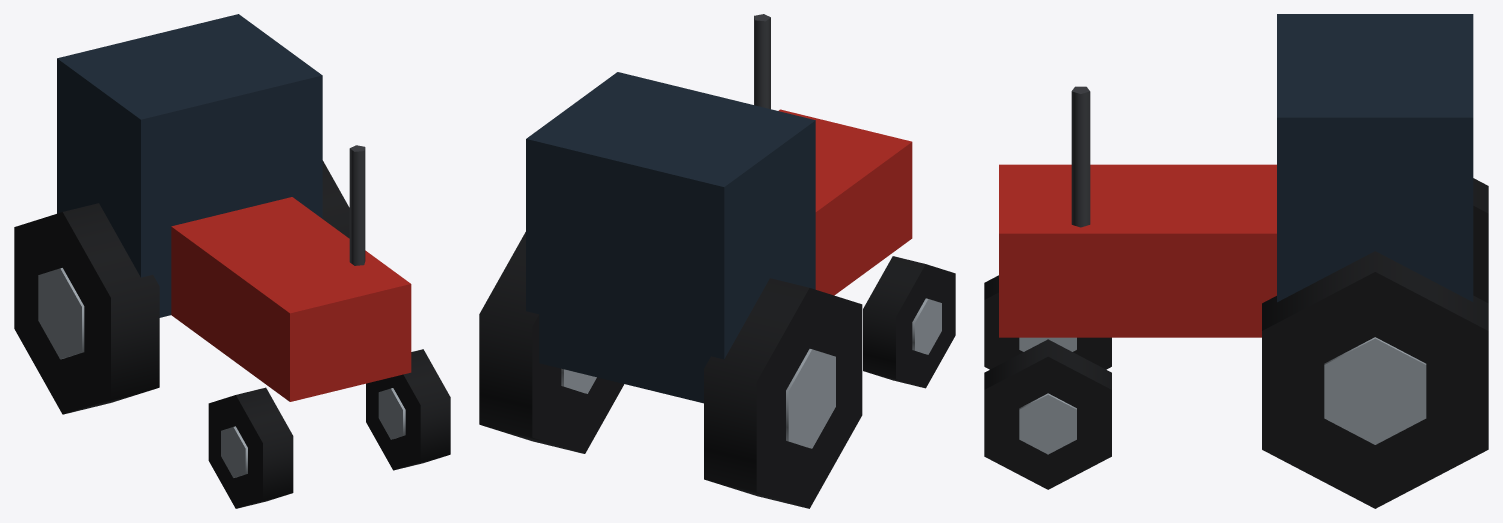
File: veh_ground_tractor_a07_lod1.glb
3 views of the same model, side by side, from view 1: azimuth 30°, elevation 25°; view 2: azimuth 150°, elevation 25°; view 3: azimuth 270°, elevation 25° (orthographic). The views are drawn at different scales.
Parts seen in each view (by area): view 1: body, wheel_0, front_wheel_0, front_wheel_1, wheel_1; view 2: body, wheel_0, wheel_1, front_wheel_0; view 3: body, wheel_1, front_wheel_1, front_wheel_0, wheel_0.
Part boxes in pixels (x1,y1,x2,y2): body: [57, 14, 411, 401]; wheel_0: [14, 203, 159, 414]; front_wheel_0: [208, 387, 293, 508]; front_wheel_1: [366, 349, 450, 470]; wheel_1: [322, 160, 349, 238]; body: [526, 14, 912, 403]; wheel_0: [704, 278, 862, 508]; wheel_1: [479, 232, 624, 453]; front_wheel_0: [863, 256, 955, 388]; body: [999, 14, 1473, 337]; wheel_1: [1262, 251, 1488, 508]; front_wheel_1: [984, 339, 1111, 489]; front_wheel_0: [984, 275, 1111, 369]; wheel_0: [1473, 178, 1488, 303].
Size of the model in its own units: 2.14 by 2.5 by 3.08.
